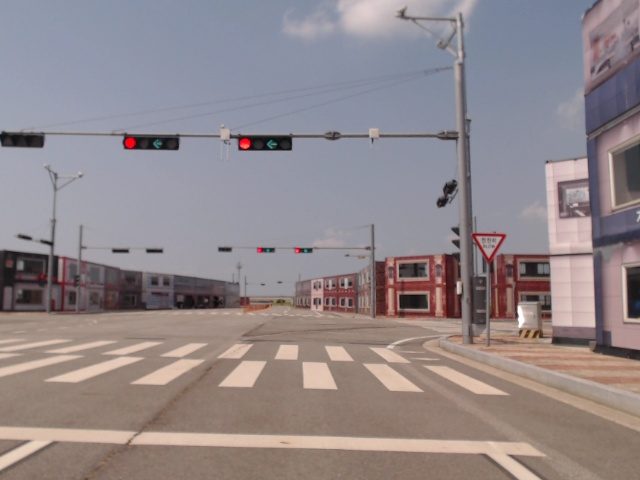left_green_4: (124, 136, 180, 150), (237, 137, 292, 151), (296, 248, 313, 254), (257, 247, 274, 252)
